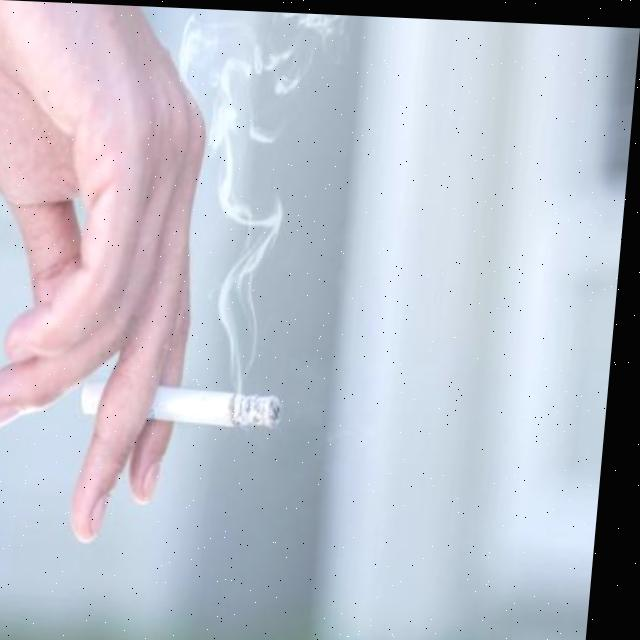cigarette: (84, 382, 293, 433)
